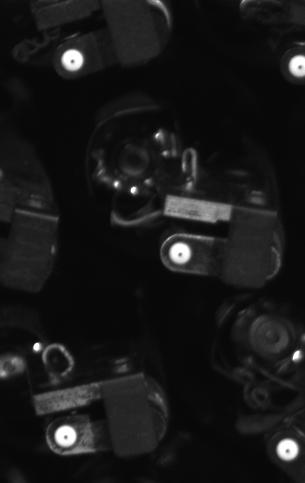fiber: (56, 43, 93, 78), (47, 420, 82, 452), (165, 238, 195, 270), (273, 434, 303, 466), (287, 52, 305, 83)
